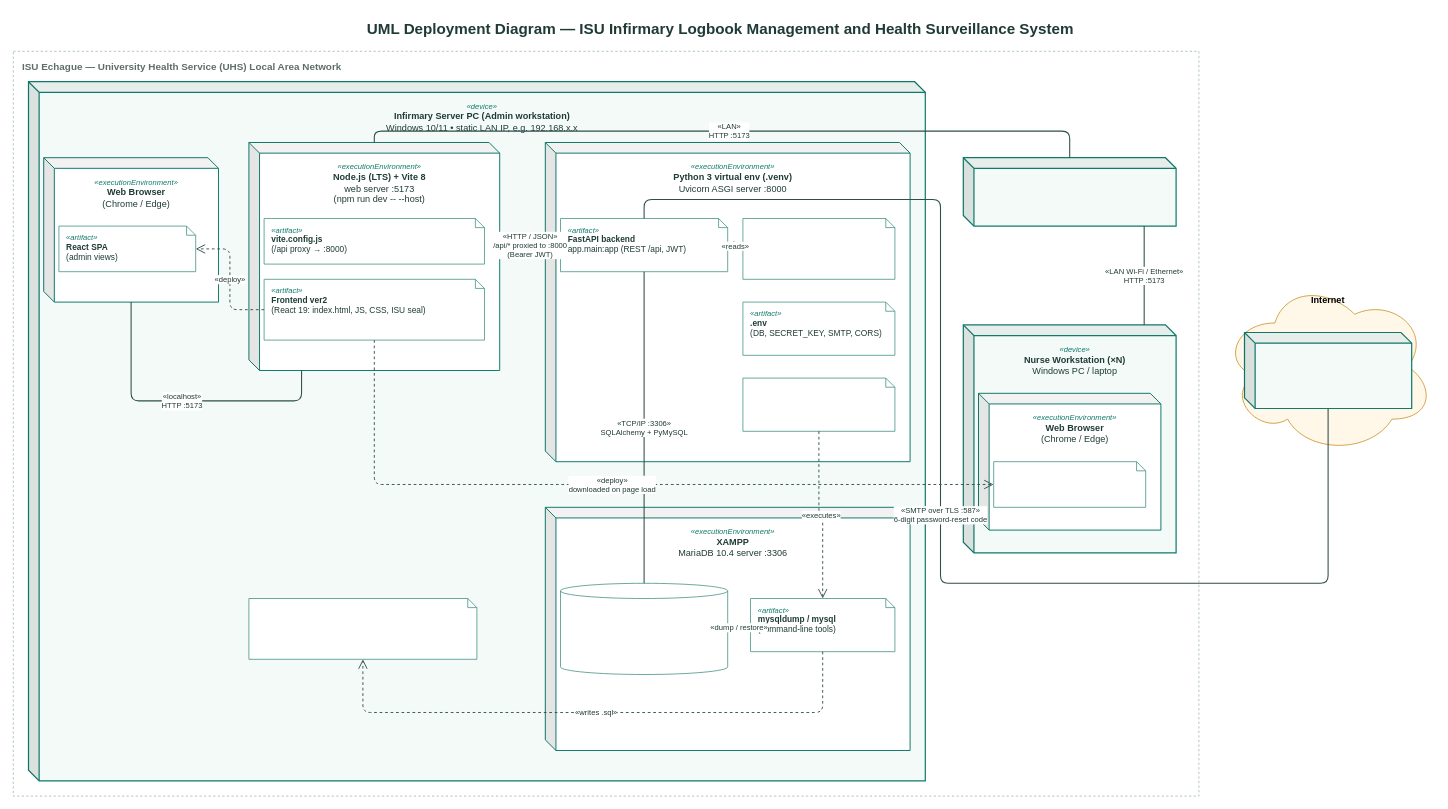
Image size: 1448x809. Some labels were removed from this diagram. The centre of each missing label's shape, as x and y in pixels:
"«artifact» Backup scheduler (daily 11:59 PM, Manila)" goes at point 818,404.
"«artifact» backups/ isu_infirmary_*.sql (automatic, manual, safety)" goes at point 362,628.
"«artifact» health_surveillance/ model.json (Poisson outbreak model)" goes at point 818,248.
"«artifact» React SPA (nurse views)" goes at point 1069,484.
"«device» UHS Wi-Fi Router / LAN Switch" goes at point 1069,191.
"«external system» Gmail SMTP Server smtp.gmail.com :587" goes at point 1328,370.
"«schema» isu_infirmary (22 tables: patients, visits, stock, users, audit log…)" goes at point 644,628.
